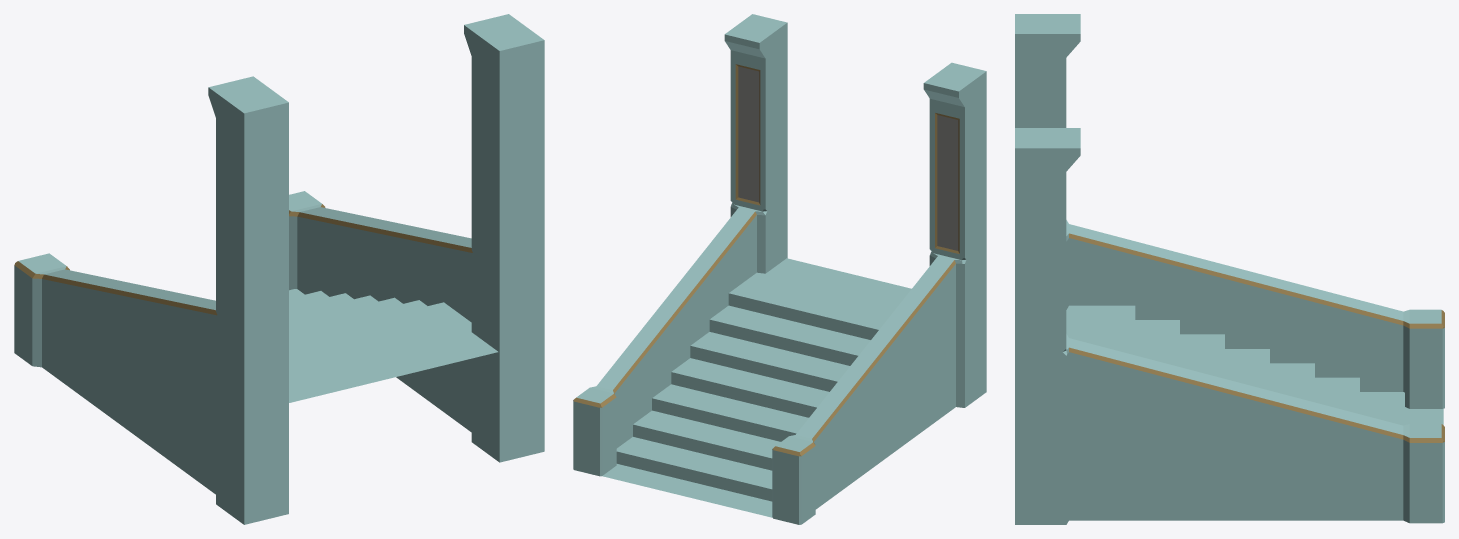
The model's file is GateStair.fbx.
3 renders of one model, left to right at view 1: azimuth 30°, elevation 25°; view 2: azimuth 150°, elevation 25°; view 3: azimuth 270°, elevation 25°, orthographic. The views are drawn at different scales.
Parts seen in each view (by area): view 1: GateStair, Stair; view 2: GateStair, Stair; view 3: GateStair, Stair.
Part boxes in pixels (bbox=[...]): GateStair: bbox=[14, 14, 544, 524]; Stair: bbox=[289, 289, 497, 402]; GateStair: bbox=[573, 14, 986, 524]; Stair: bbox=[602, 258, 911, 517]; GateStair: bbox=[1015, 14, 1444, 524]; Stair: bbox=[1066, 305, 1443, 425].
Bounding box in the file's own units: 366 × 479 × 495.
